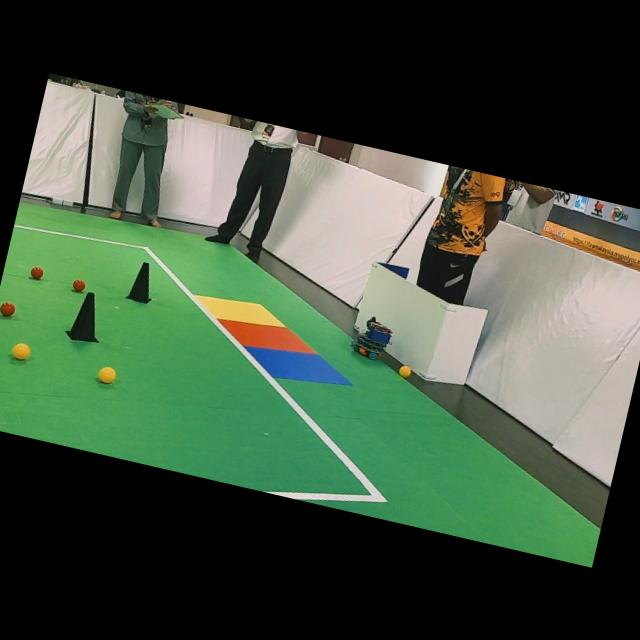ball: (98, 366, 116, 383), (11, 343, 30, 359), (0, 301, 15, 317), (71, 278, 85, 292), (29, 266, 44, 279), (398, 365, 411, 378)
goal: (245, 347, 351, 385), (219, 319, 315, 354), (195, 295, 285, 327)
